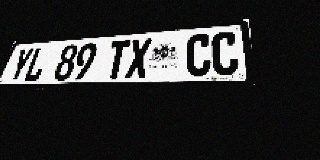8: (52, 44, 80, 81)
9: (70, 43, 99, 80)
C: (212, 31, 239, 76), (185, 33, 211, 77)
L: (22, 46, 51, 82)
T: (103, 40, 131, 79)
X: (125, 38, 152, 78)
Y: (6, 48, 35, 82)
